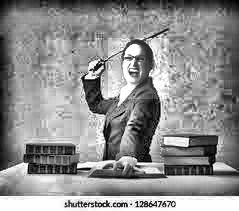angry: (108, 39, 169, 100)
